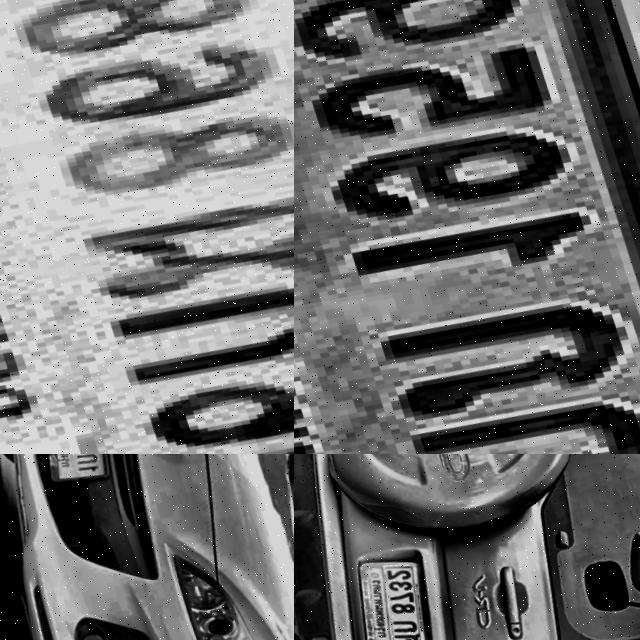license-plate: (294, 0, 640, 454), (0, 0, 294, 454), (328, 548, 439, 640), (21, 454, 120, 487)
